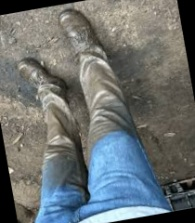earth: (80, 53, 130, 134), (38, 81, 78, 156), (44, 151, 82, 187)
